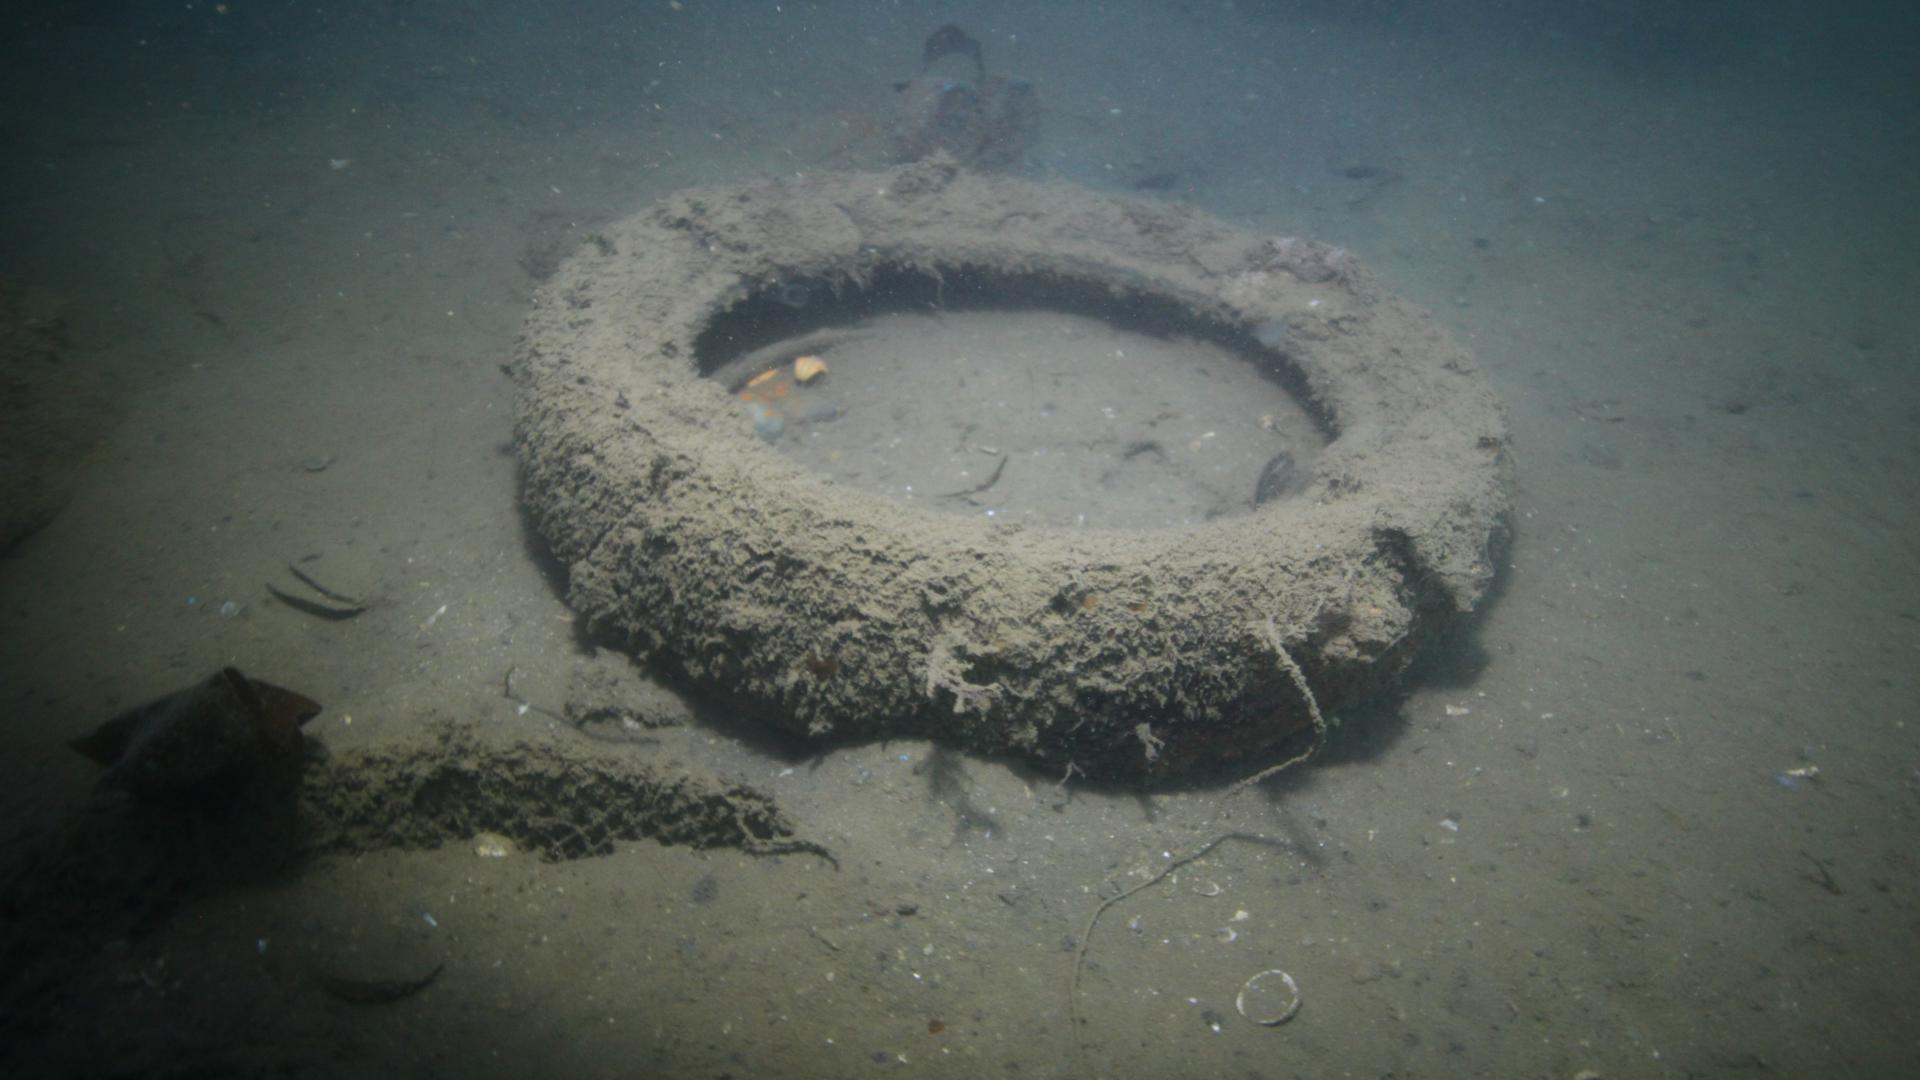fish net: (128, 744, 731, 858)
tire: (512, 165, 1516, 769)
